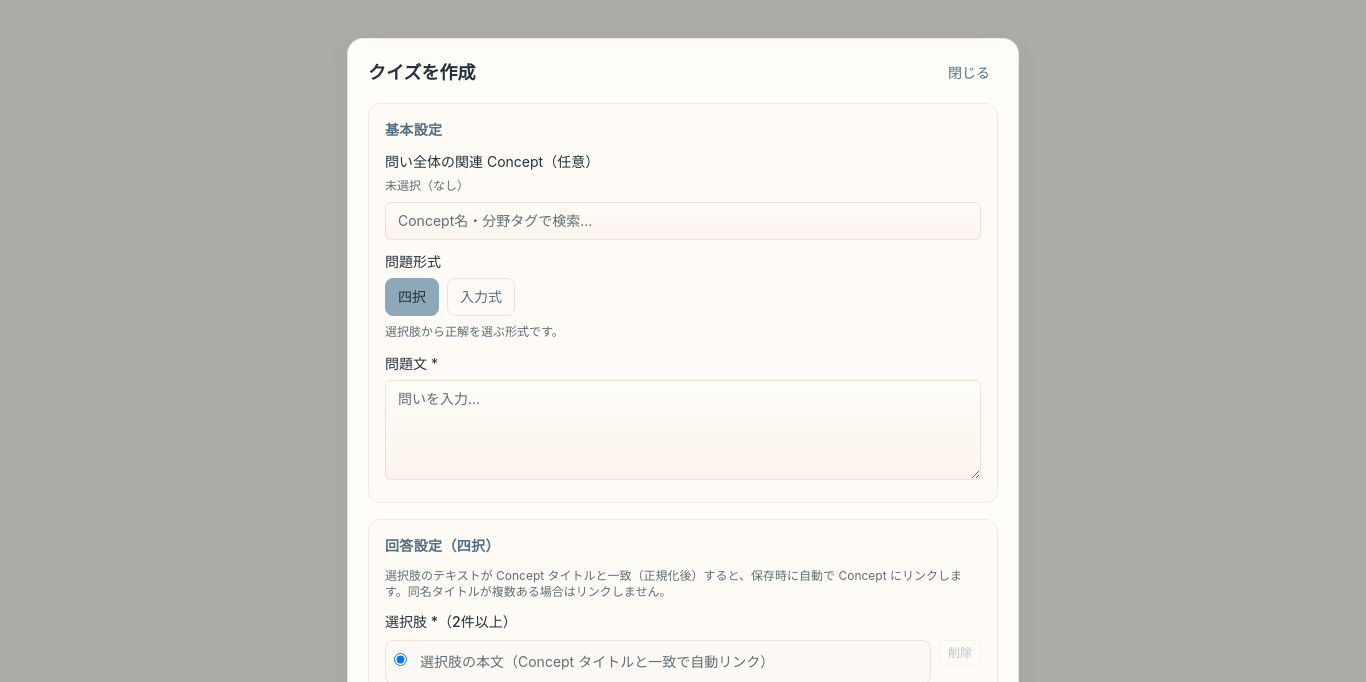
QuizQuestionFormModal answer-type sections › Concept 選択後の四択では文脈別定義からの生成 UI が入力できる
Type "ベイズ" into the dropdown named "Conceptを検索（タイトル・分野タグで絞り込み）" at [683, 221], box [385, 202, 981, 240]
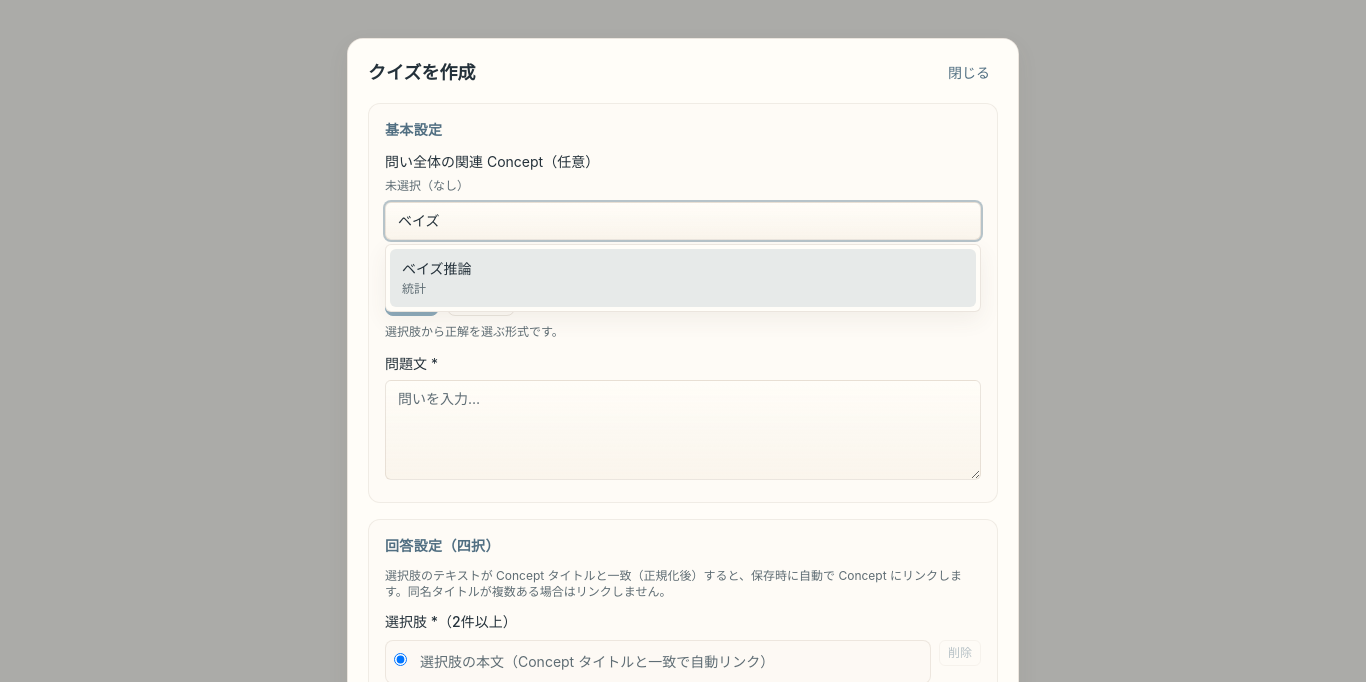
expect the option "ベイズ推論 統計" is shown: met
Click the option "ベイズ推論 統計" at [437, 269], box [390, 249, 976, 307]
(page scrolled)
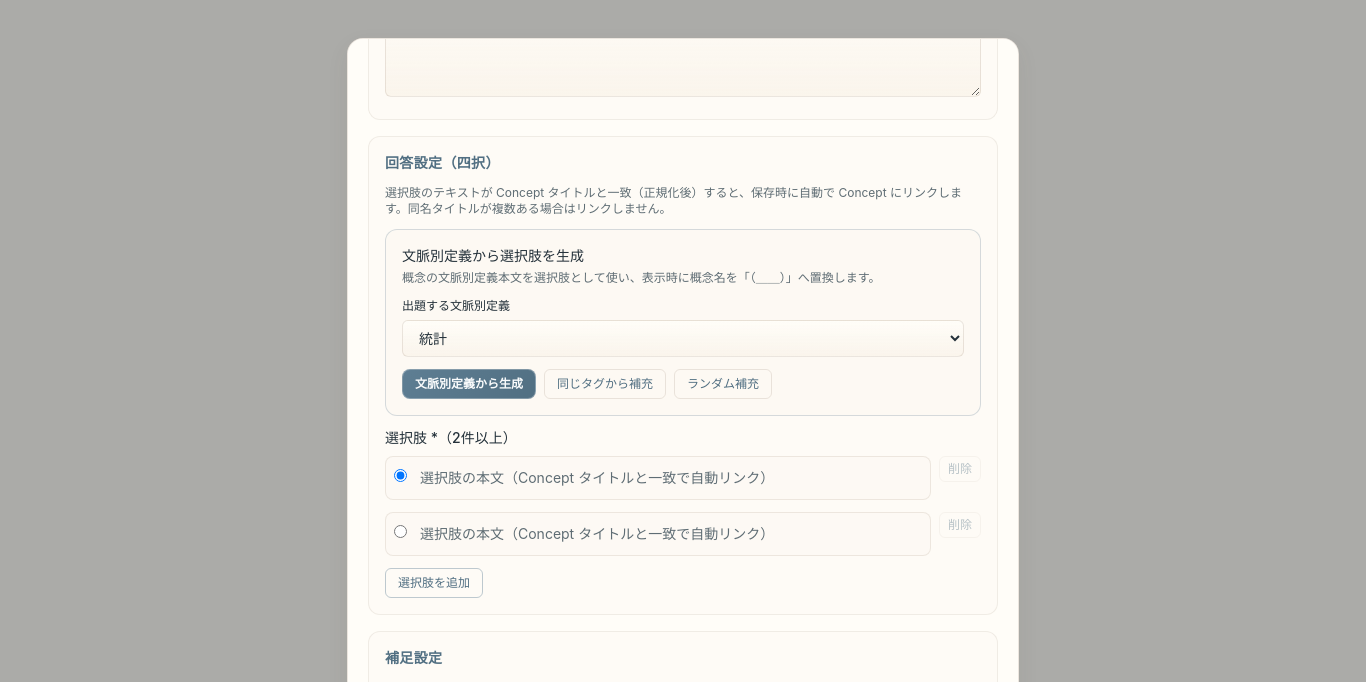
expect the heading "文脈別定義から選択肢を生成" is shown: met, box [402, 247, 584, 264]
expect the button "文脈別定義から生成" is enabled: met, box [402, 369, 536, 399]
